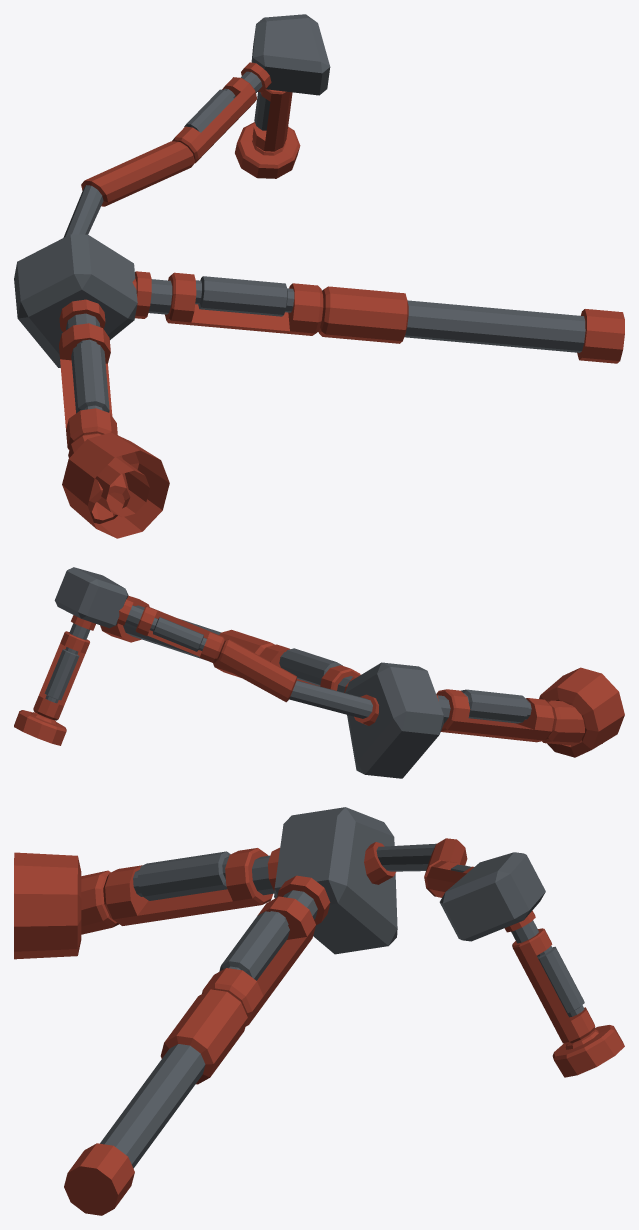
File: Fighter_03_Pipes_05_Red.fbx
3 renders of one model, top to bottom at view 1: azimuth 30°, elevation 25°; view 2: azimuth 150°, elevation 25°; view 3: azimuth 270°, elevation 25°, orthographic. The views are drawn at different scales.
Parts seen in each view (by area): view 1: Fighter_03_Pipes_05_Red; view 2: Fighter_03_Pipes_05_Red; view 3: Fighter_03_Pipes_05_Red.
Boxes of the visible parts, <box> form: Fighter_03_Pipes_05_Red: <box>14,14,624,538</box>; Fighter_03_Pipes_05_Red: <box>14,567,624,778</box>; Fighter_03_Pipes_05_Red: <box>14,807,624,1215</box>.
Size of the model in its own units: 462 by 203 by 377.
1 material, 1 textured.
